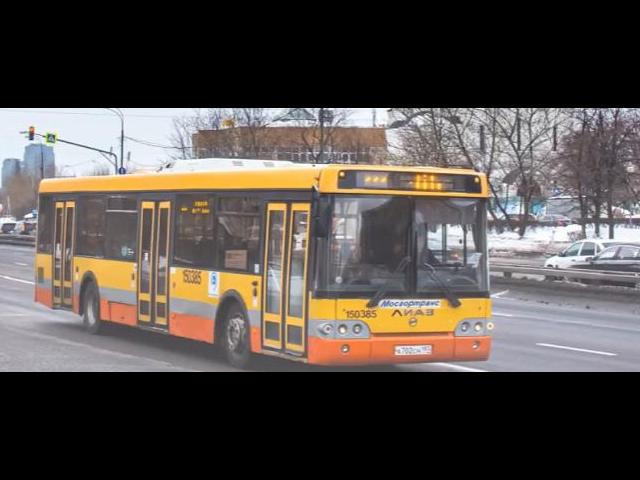bus: (28, 159, 500, 370)
